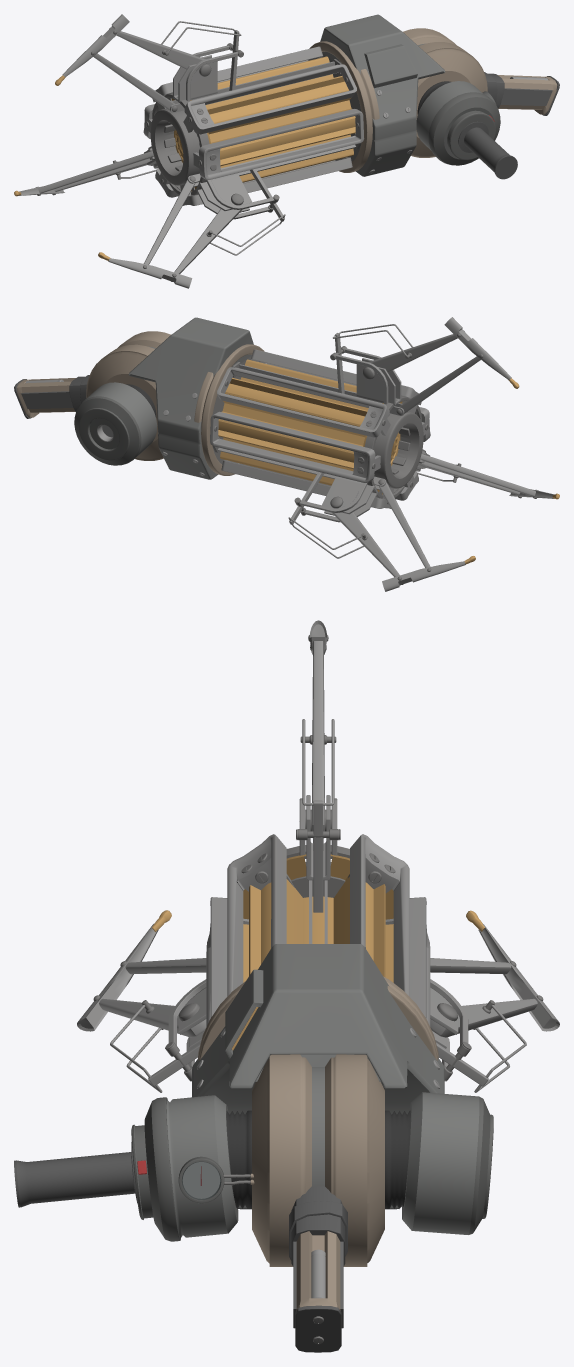
File: gravitygun.fbx
The picture shows the model from 3 angles, top to bottom: view 1: azimuth 30°, elevation 25°; view 2: azimuth 150°, elevation 25°; view 3: azimuth 270°, elevation 25°; orthographic projection. The views are drawn at different scales.
Parts seen in each view (by area): view 1: polySurface3, pCube1, pCylinder6, pCylinder5, pCylinder1, pCube18, pCube17, pCylinder14, pCube26; view 2: polySurface3, pCube1, pCylinder7, pCylinder5, pCylinder1, pCube18, pCube26, pCylinder14; view 3: polySurface3, pCylinder5, pCube1, pCylinder6, pCylinder7, pCube18, pCube26, pCylinder1, pCube27, pCube17, pCylinder16, pCylinder15 (+1 smaller).
Boxes of the visible parts, box(x1,y1,x2,y2) form: polySurface3: box(14, 14, 364, 288); pCube1: box(320, 14, 445, 176); pCylinder6: box(416, 81, 517, 179); pCylinder5: box(403, 28, 487, 157); pCylinder1: box(309, 41, 379, 172); pCube18: box(498, 75, 557, 114); pCube17: box(364, 44, 417, 88); pCylinder14: box(152, 93, 209, 195); pCube26: box(484, 72, 504, 108); polySurface3: box(210, 317, 559, 591); pCube1: box(128, 317, 253, 479); pCylinder7: box(74, 382, 157, 465); pCylinder5: box(86, 331, 170, 460); pCylinder1: box(194, 344, 264, 475); pCube18: box(16, 378, 75, 417); pCube26: box(69, 375, 89, 411); pCylinder14: box(364, 396, 421, 498); polySurface3: box(77, 620, 559, 1092); pCylinder5: box(226, 1054, 410, 1266); pCube1: box(192, 944, 444, 1209); pCylinder6: box(14, 1095, 238, 1241); pCylinder7: box(402, 1092, 493, 1234); pCube18: box(293, 1231, 343, 1328); pCube26: box(289, 1186, 347, 1266); pCylinder1: box(198, 976, 438, 1060); pCube27: box(295, 1305, 341, 1352); pCube17: box(225, 969, 263, 1058); pCylinder16: box(178, 1156, 224, 1203); pCylinder15: box(243, 854, 393, 919).
Size of the model in its own units: 27.55 by 11.94 by 14.43.
